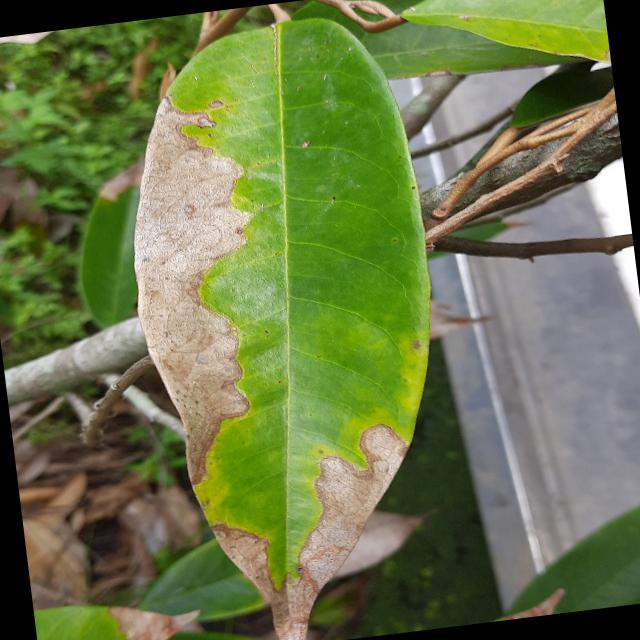Leaf Blight: (95, 0, 480, 639)
